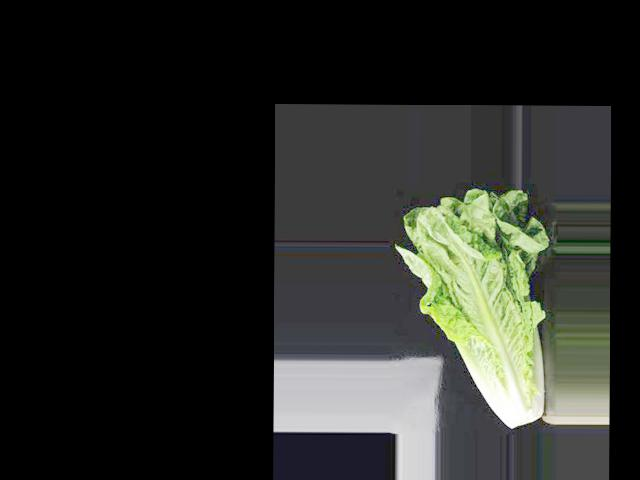lettuce: (418, 380, 621, 434)
